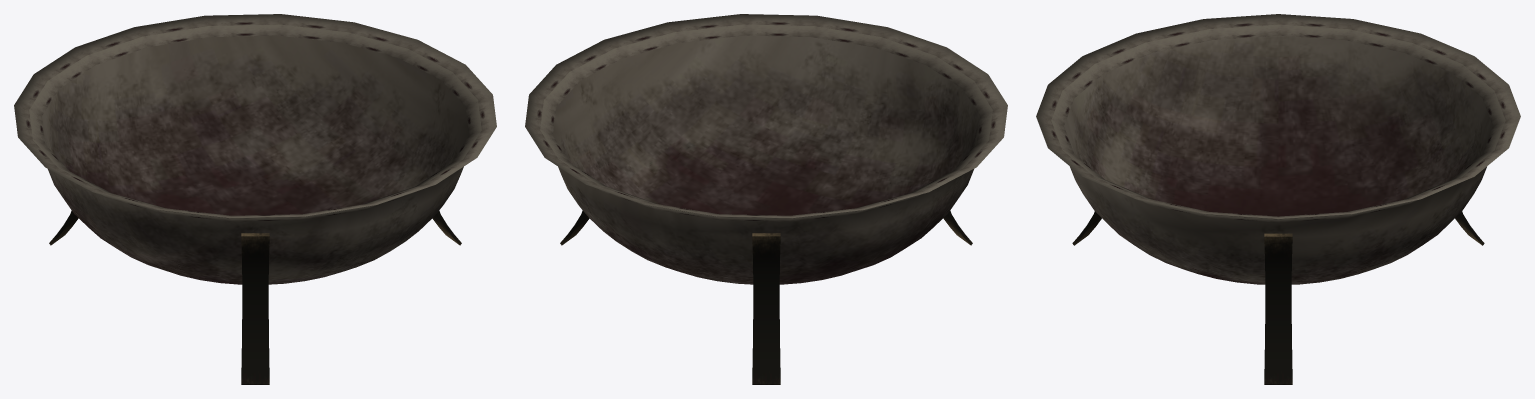
The model's file is brazier.fbx.
3 renders of one model, left to right at view 1: azimuth 30°, elevation 25°; view 2: azimuth 150°, elevation 25°; view 3: azimuth 270°, elevation 25°, orthographic.
Parts seen in each view (by area): view 1: g, g.003; view 2: g, g.002; view 3: g, g.001.
Part boxes in pixels (x1,y1,x2,y2): g: (14, 14, 496, 284); g.003: (241, 233, 269, 384); g: (525, 14, 1007, 284); g.002: (752, 233, 780, 384); g: (1036, 14, 1520, 284); g.001: (1264, 233, 1292, 384).
Size of the model in its own units: 200 by 78.42 by 200.
